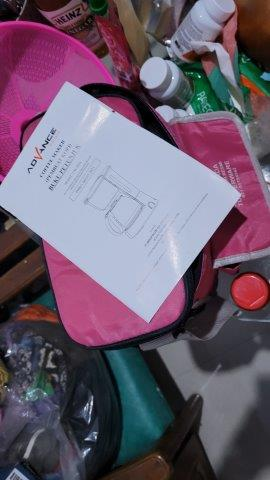kertas: (1, 80, 244, 324)
